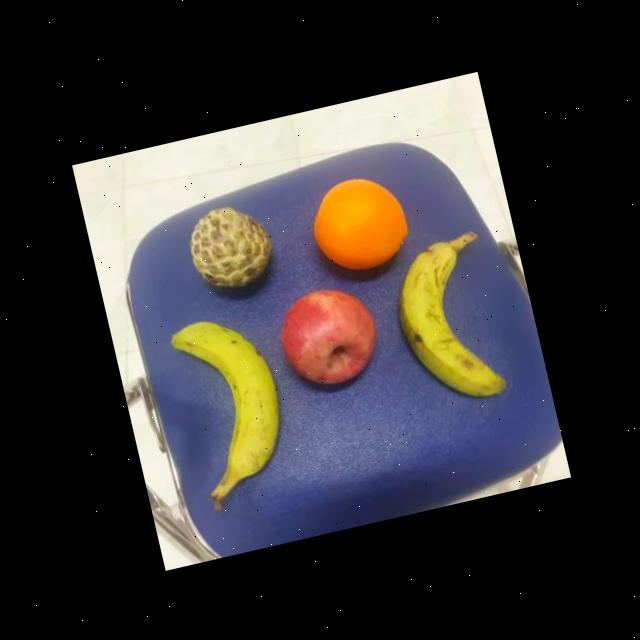Sakya fruit: (178, 195, 280, 297)
apple: (268, 277, 384, 393)
banana: (161, 304, 294, 490), (381, 230, 512, 413)
orange: (300, 165, 414, 278)
